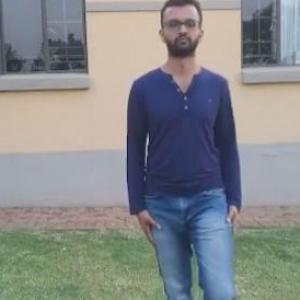follow: (126, 4, 240, 278)
